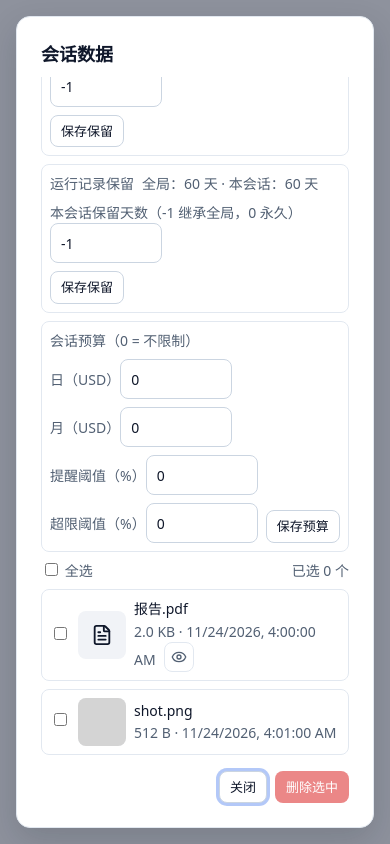
it: AttachmentManager › deletes selected attachments in bulk
(page scrolled)
Click the checkbox below "报告.pdf". click: coordinates (60, 633)
box: [54,627,67,640]
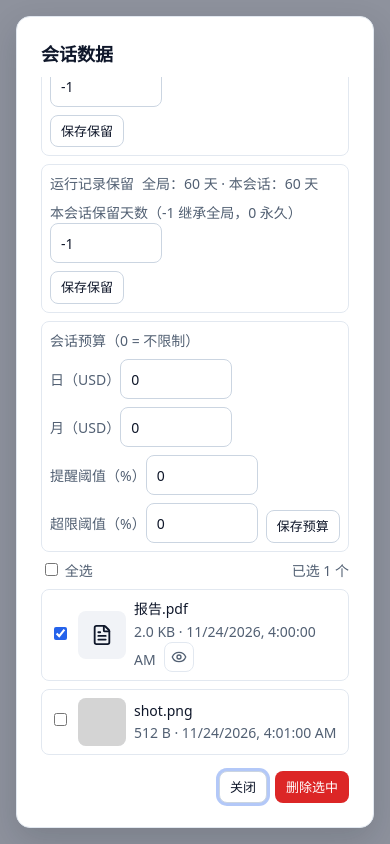
Now the text "已选 1 个" is shown, box [292,560,349,581]
Click the button with test id "attachment-manager-delete". click: coordinates (312, 787)
box: [275,771,349,803]
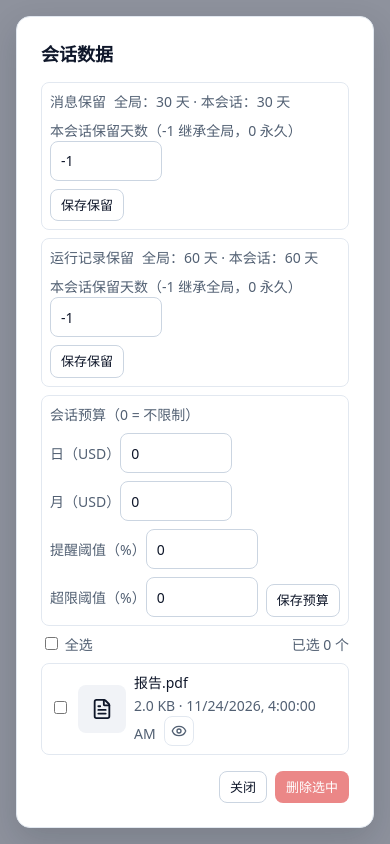
Now the number of list items with class "attachment-manager-item" is 1, box [41,663,349,755]
